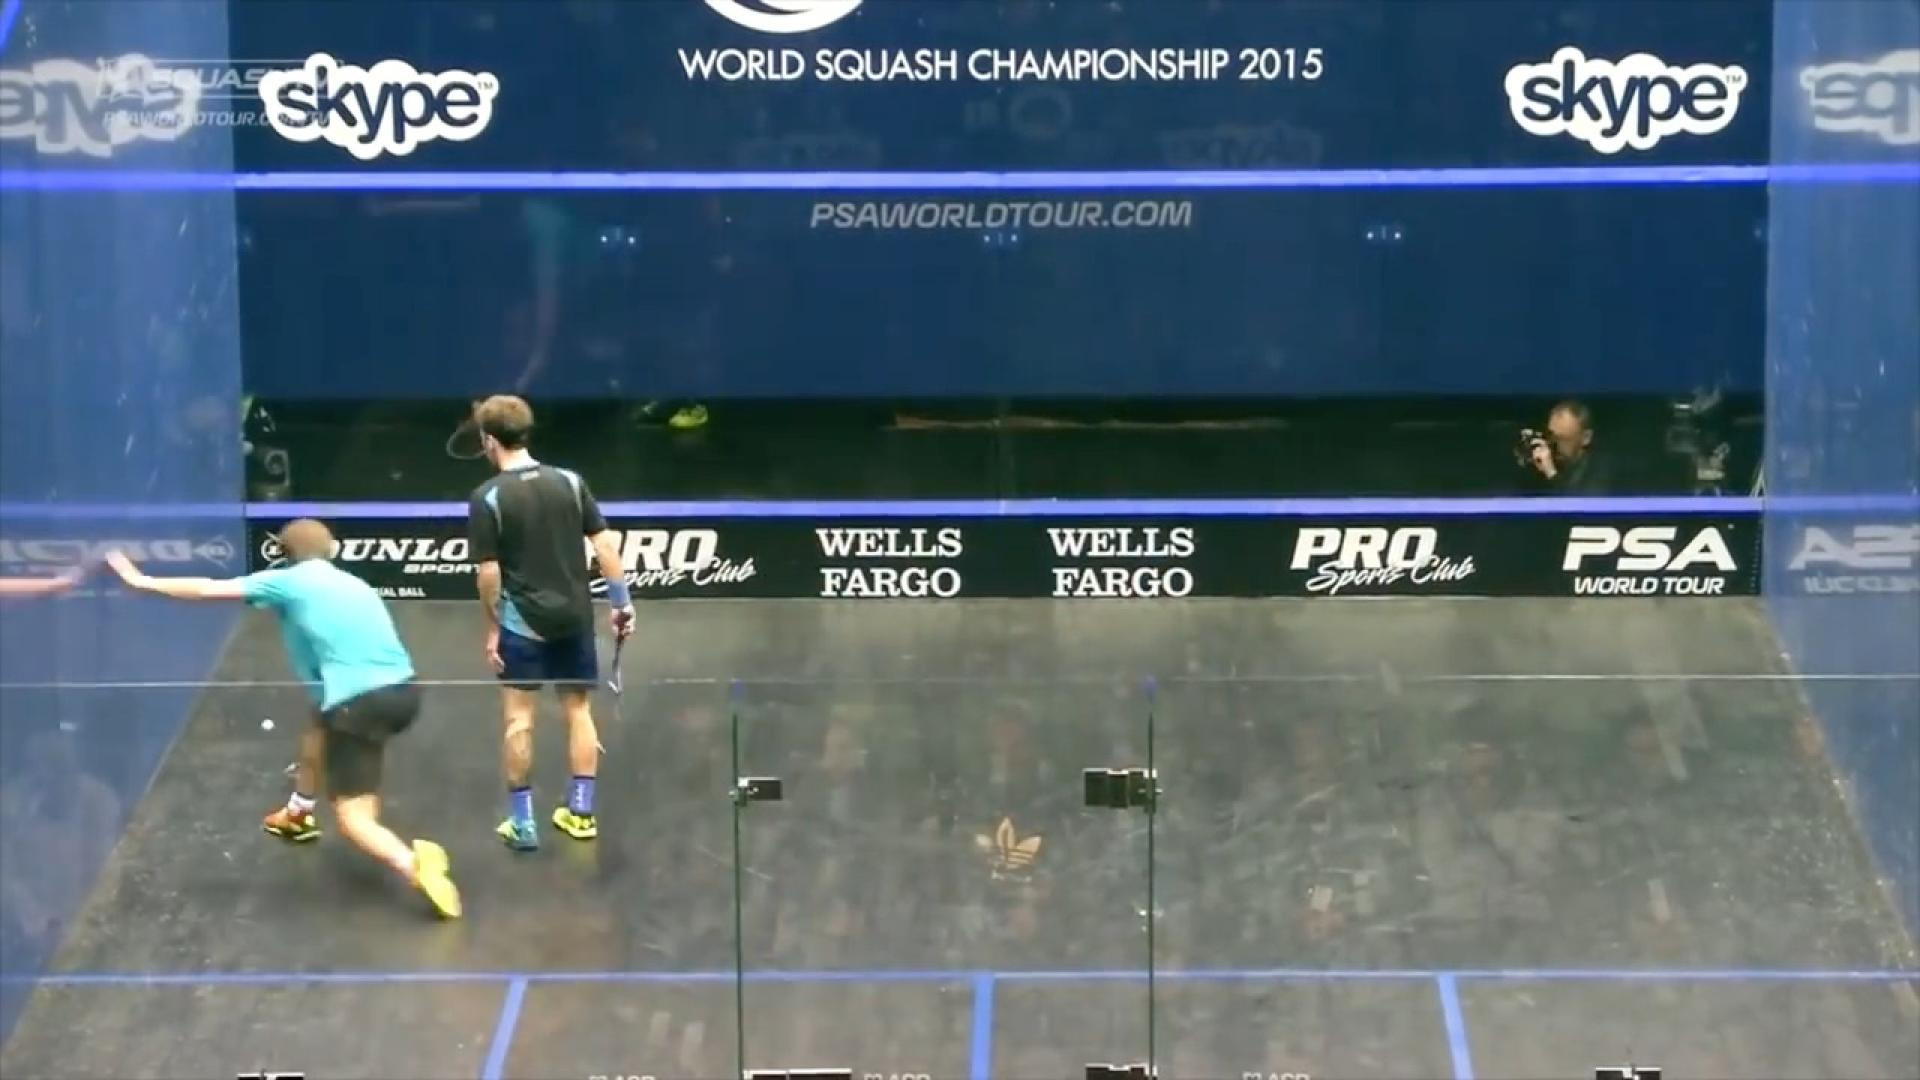Squash-Ball: (243, 698, 285, 750)
